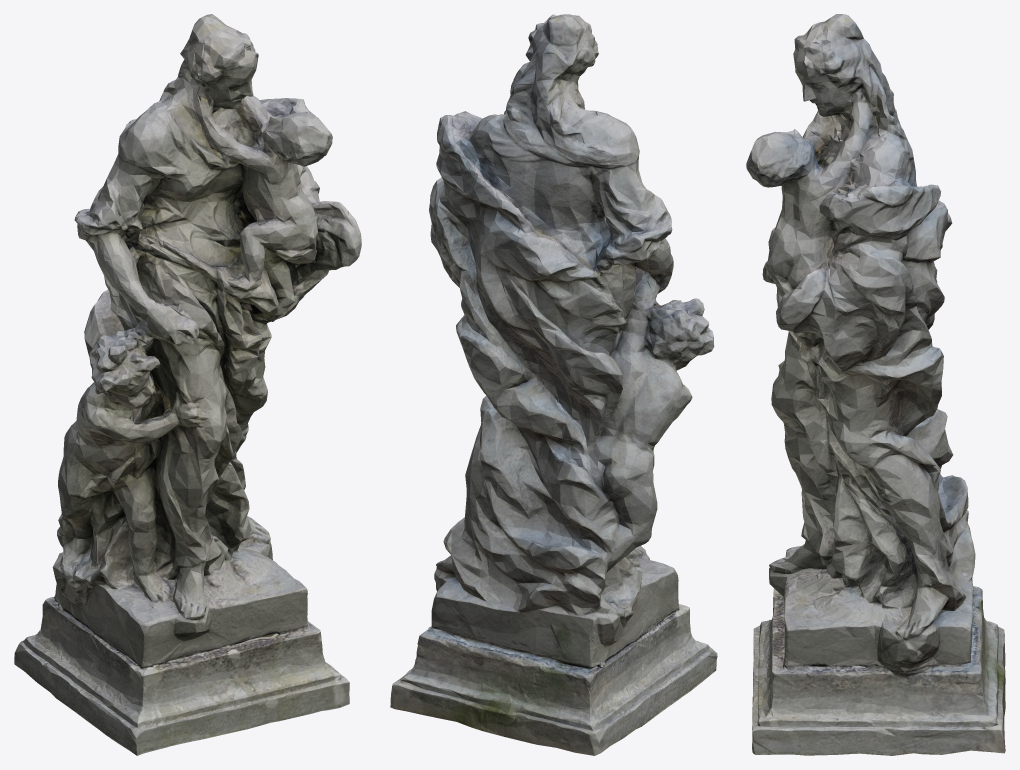
File: laska.glb
3 renders of one model, left to right at view 1: azimuth 30°, elevation 25°; view 2: azimuth 150°, elevation 25°; view 3: azimuth 270°, elevation 25°, orthographic. The views are drawn at different scales.
Visible parts, largest first — view 1: Laska; view 2: Laska; view 3: Laska.
Boxes of the visible parts, left/top/right/bottom form: Laska: left=14, top=14, right=361, bottom=755; Laska: left=390, top=14, right=717, bottom=755; Laska: left=746, top=14, right=1005, bottom=755.
Size of the model in its own units: 1.07 by 2.68 by 0.9132.
Materials: 1 (1 with a texture image).
